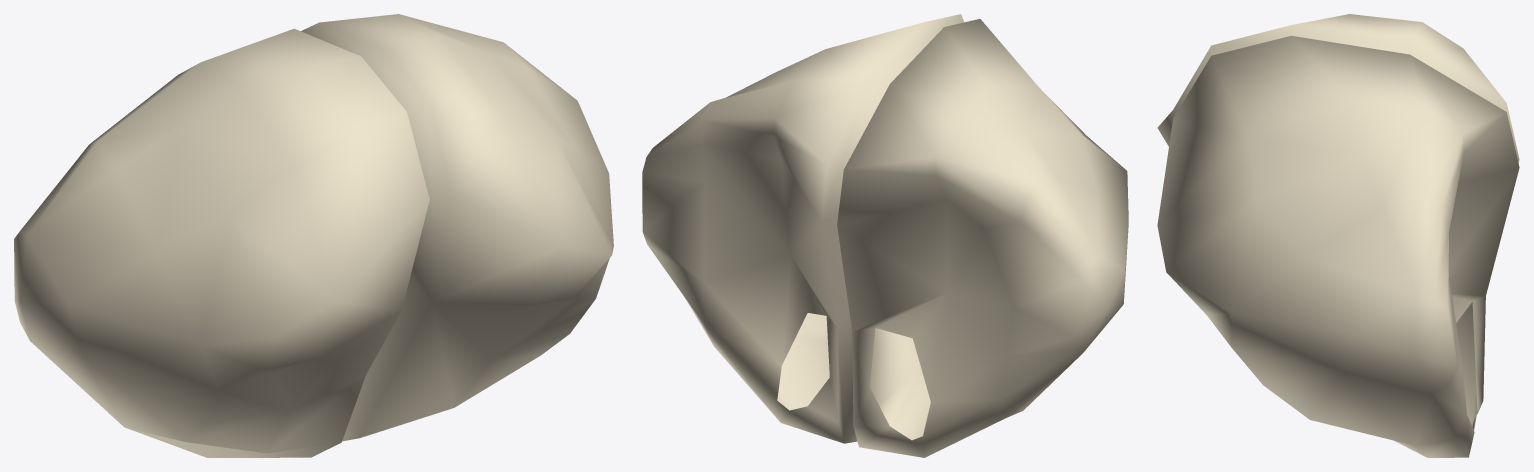
File: esqueleto-sinus-of-sphenoid-bone.glb
3 renders of one model, left to right at view 1: azimuth 30°, elevation 25°; view 2: azimuth 150°, elevation 25°; view 3: azimuth 270°, elevation 25°, orthographic. The views are drawn at different scales.
Visible parts, largest first — view 1: Sinus of sphenoid bone; view 2: Sinus of sphenoid bone; view 3: Sinus of sphenoid bone.
Boxes of the visible parts, left/top/right/bottom form: Sinus of sphenoid bone: left=14, top=14, right=613, bottom=457; Sinus of sphenoid bone: left=642, top=14, right=1128, bottom=457; Sinus of sphenoid bone: left=1157, top=14, right=1519, bottom=457.
Bounding box in the file's own units: 0.0282 × 0.0217 × 0.0176.
